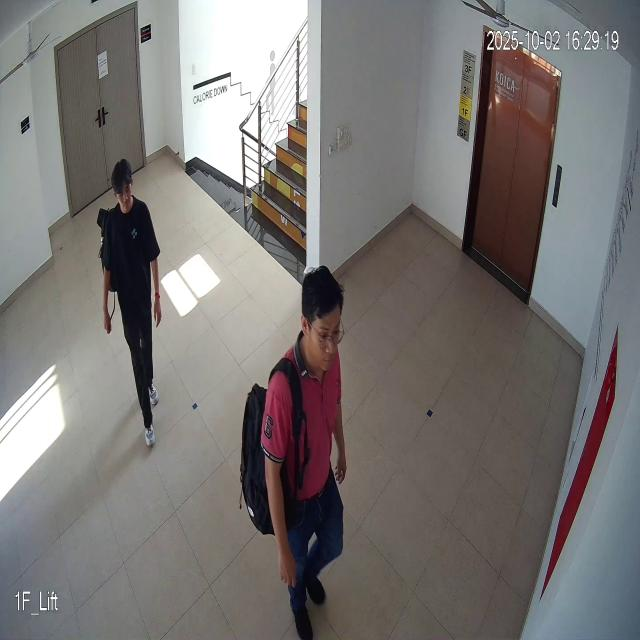face: (298, 260, 347, 376), (110, 156, 135, 217)
